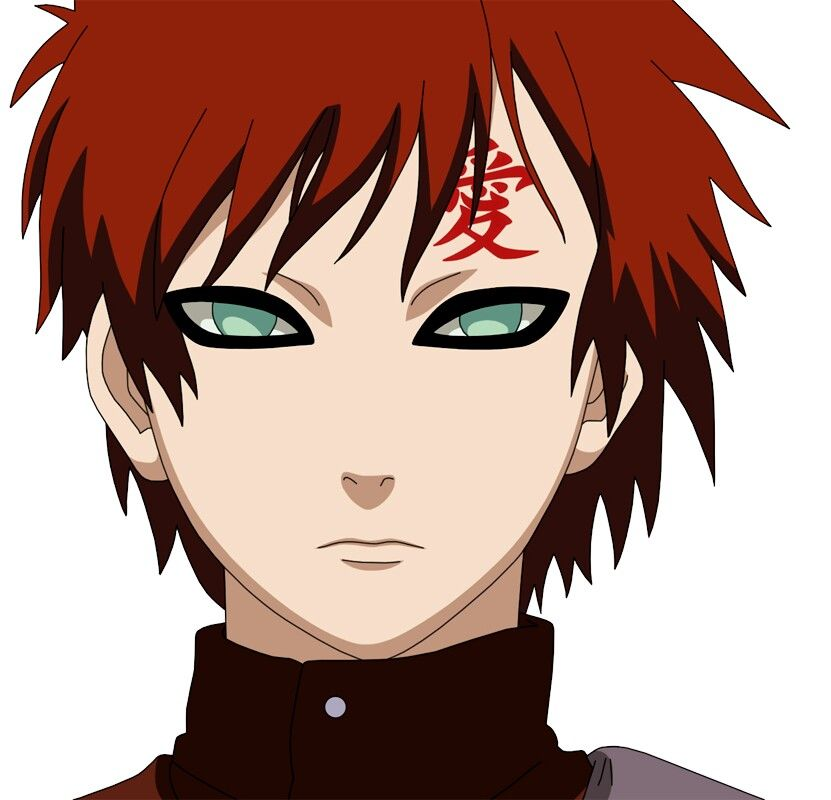gaara: (74, 43, 653, 665)
